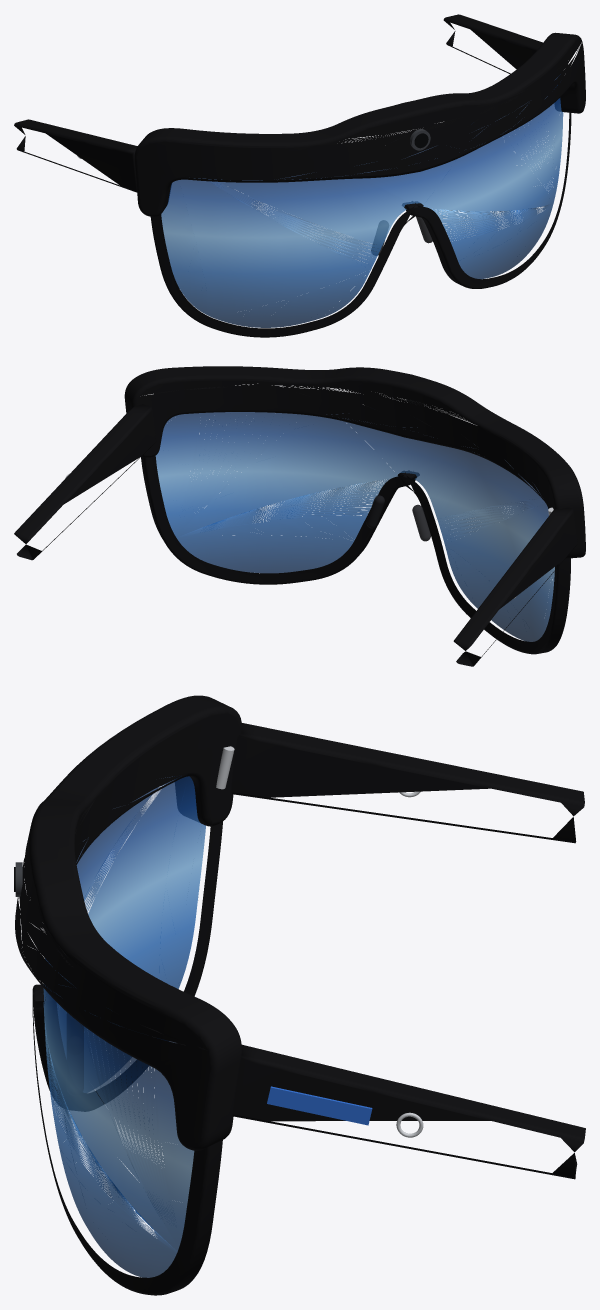
File: sport-mask.glb
The picture shows the model from 3 angles, top to bottom: view 1: azimuth 30°, elevation 25°; view 2: azimuth 150°, elevation 25°; view 3: azimuth 270°, elevation 25°; orthographic projection. The views are drawn at different scales.
Visible parts, largest first — view 1: shield_lens, brow, rim, temple_arm (×2); view 2: shield_lens, brow, temple_arm (×2), rim, nose_pad; view 3: brow, shield_lens, temple_arm (×2), rim, accent, nose_pad.
Part boxes in pixels (x1=…): shield_lens: x1=161, y1=74, x2=563, y2=327; brow: x1=134, y1=32, x2=585, y2=216; rim: x1=150, y1=63, x2=571, y2=337; temple_arm (×2): x1=14, y1=14, x2=561, y2=192; shield_lens: x1=155, y1=412, x2=554, y2=641; brow: x1=124, y1=366, x2=585, y2=558; temple_arm (×2): x1=14, y1=404, x2=577, y2=666; rim: x1=141, y1=385, x2=570, y2=654; nose_pad: x1=412, y1=504, x2=430, y2=541; brow: x1=15, y1=695, x2=241, y2=1150; shield_lens: x1=43, y1=776, x2=205, y2=1277; temple_arm (×2): x1=231, y1=723, x2=585, y2=1179; rim: x1=32, y1=799, x2=222, y2=1295; accent: x1=267, y1=1086, x2=372, y2=1125; nose_pad: x1=67, y1=1036, x2=83, y2=1095.
Bounding box in the file's own units: 14.54 × 6.55 × 9.91.
Materials: 9 (1 with a texture image).
